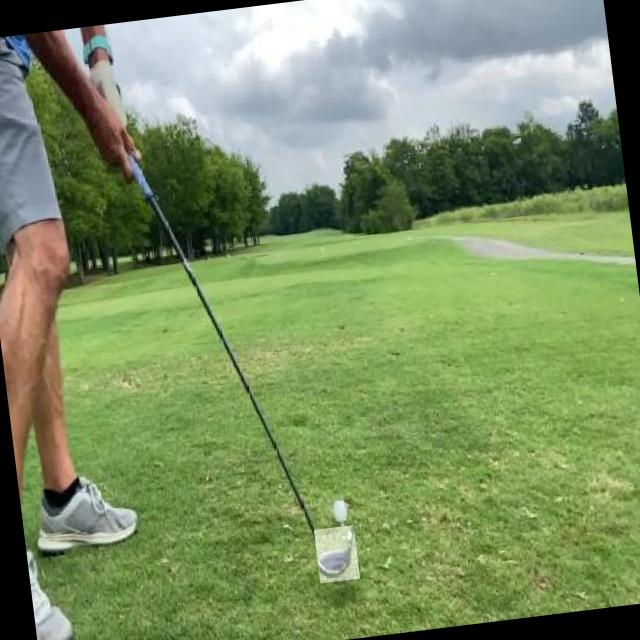club head: (314, 525, 360, 583)
